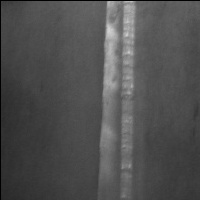scratches: (93, 1, 139, 200)
